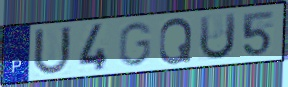4: (77, 22, 110, 73)
5: (241, 9, 276, 58)
G: (116, 21, 154, 69)
Q: (158, 16, 195, 66)
U: (31, 25, 73, 78), (197, 11, 238, 63)
